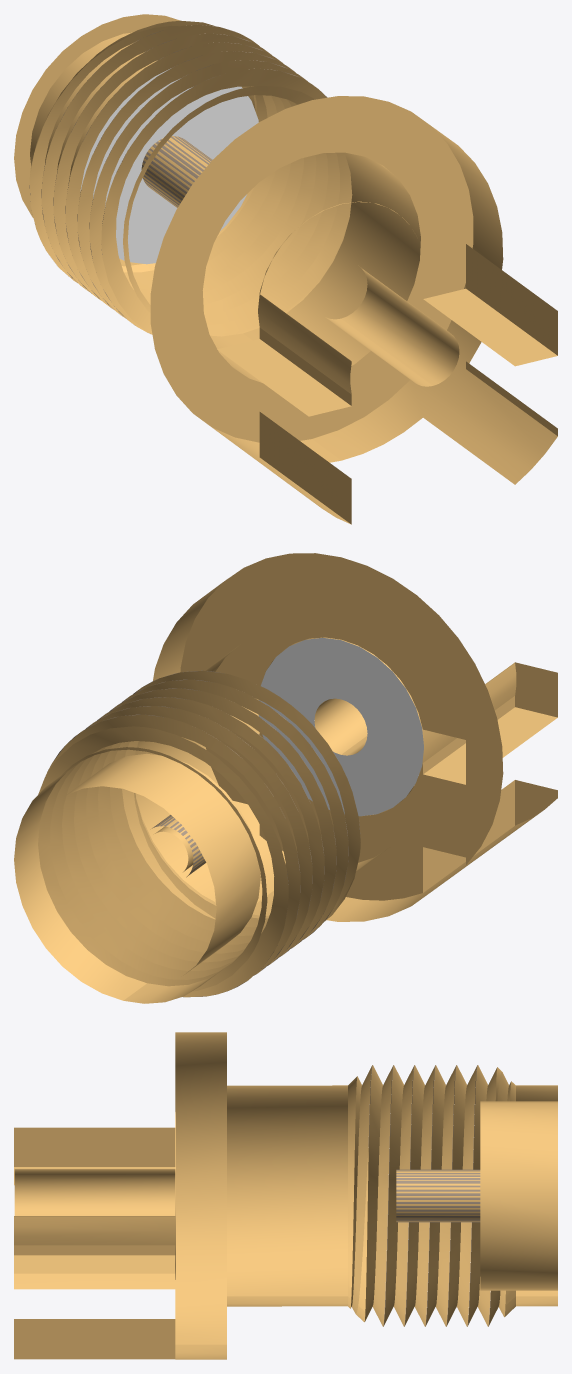
The model's file is sfe-sma-edge-8mm.glb.
3 renders of one model, top to bottom at view 1: azimuth 30°, elevation 25°; view 2: azimuth 150°, elevation 25°; view 3: azimuth 270°, elevation 25°, orthographic. The views are drawn at different scales.
Parts seen in each view (by area): view 1: 1_0.5833333333333334_0.25_0, 1_1_1_0.85, 0.4166666666666667_0.3333333333333333_0.25_0; view 2: 1_0.5833333333333334_0.25_0, 1_1_1_0.85, 0.4166666666666667_0.3333333333333333_0.25_0; view 3: 1_0.5833333333333334_0.25_0, 0.4166666666666667_0.3333333333333333_0.25_0.
Boxes of the visible parts, x1,y1,x2,y2 form: 1_0.5833333333333334_0.25_0: (14, 14, 557, 524); 1_1_1_0.85: (80, 68, 258, 264); 0.4166666666666667_0.3333333333333333_0.25_0: (29, 25, 327, 318); 1_0.5833333333333334_0.25_0: (14, 553, 557, 1003); 1_1_1_0.85: (258, 637, 423, 816); 0.4166666666666667_0.3333333333333333_0.25_0: (47, 670, 360, 997); 1_0.5833333333333334_0.25_0: (14, 1032, 557, 1359); 0.4166666666666667_0.3333333333333333_0.25_0: (368, 1065, 490, 1326).
Bounding box in the file's own units: 0.7922 × 0.793 × 1.32.
